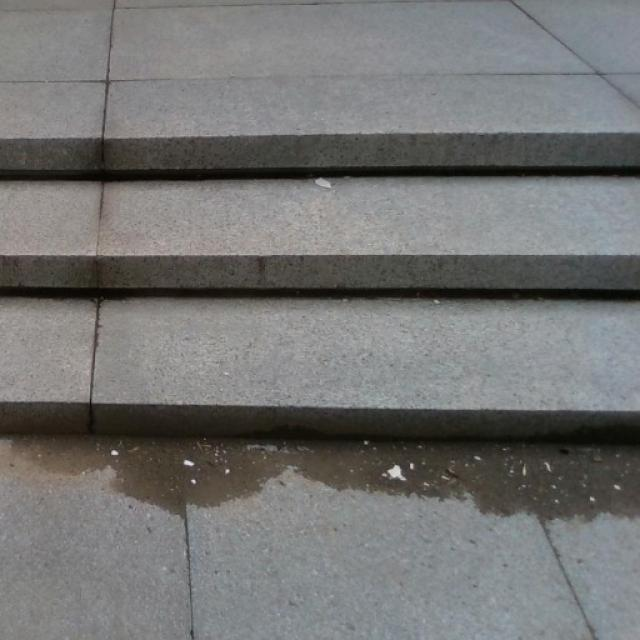Stairs: (0, 132, 639, 438)
